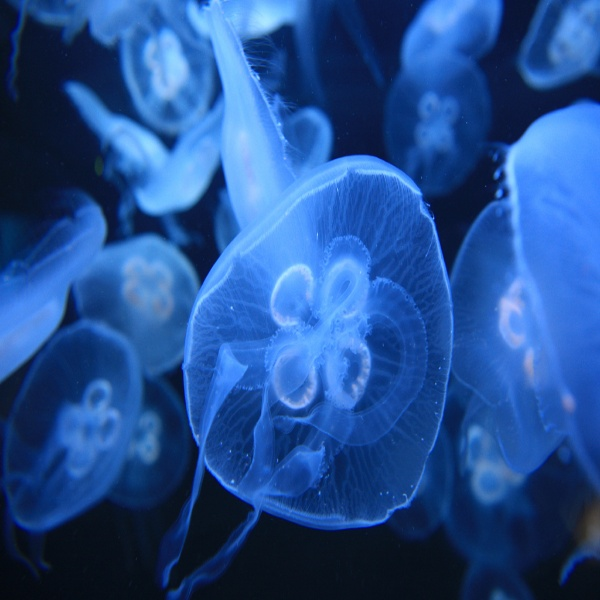Jellyfish: (0, 0, 599, 599), (157, 0, 454, 599)
